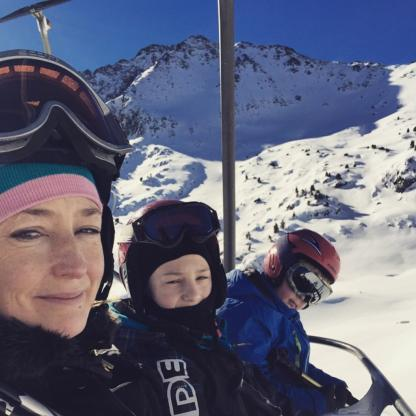Helmet: (0, 45, 131, 339), (113, 197, 228, 335), (261, 234, 343, 322)
